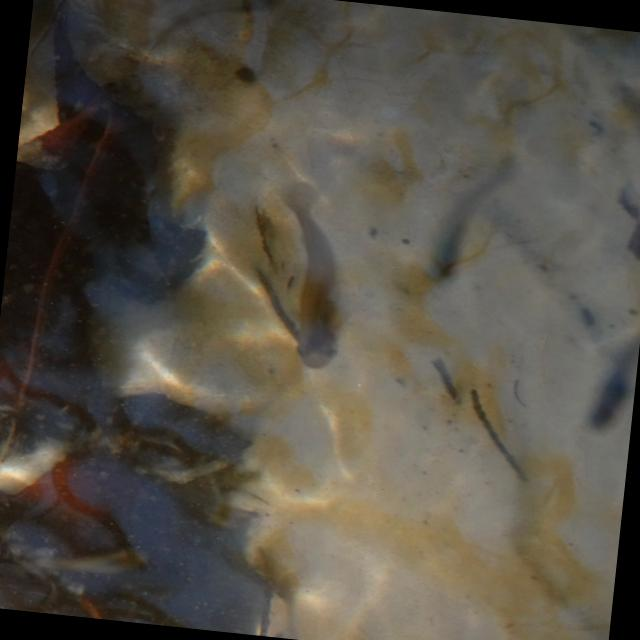Sivrisinek Baligi: (258, 179, 362, 378)
